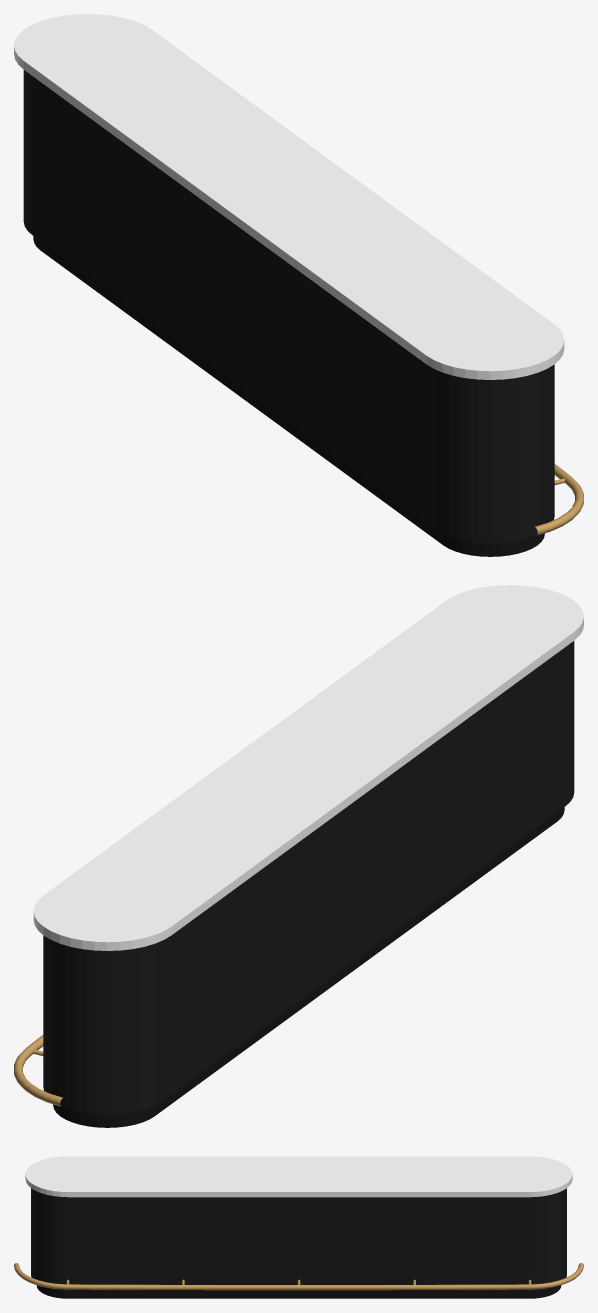
Rendered from bar_counter.glb.
3 renders of one model, top to bottom at view 1: azimuth 30°, elevation 25°; view 2: azimuth 150°, elevation 25°; view 3: azimuth 270°, elevation 25°, orthographic. The views are drawn at different scales.
Parts seen in each view (by area): view 1: Mesh_Body, Mesh_Top, Mesh_Plinth, Mesh_FootRail; view 2: Mesh_Body, Mesh_Top, Mesh_Plinth, Mesh_FootRail; view 3: Mesh_Body, Mesh_Top, Mesh_Plinth, Mesh_FootRail.
Boxes of the visible parts, x1=… form: Mesh_Body: x1=23, y1=70, x2=554, y2=543; Mesh_Top: x1=14, y1=14, x2=564, y2=379; Mesh_Plinth: x1=33, y1=236, x2=544, y2=556; Mesh_FootRail: x1=534, y1=464, x2=583, y2=535; Mesh_Body: x1=43, y1=641, x2=574, y2=1114; Mesh_Top: x1=33, y1=585, x2=583, y2=950; Mesh_Plinth: x1=53, y1=807, x2=564, y2=1127; Mesh_FootRail: x1=14, y1=1035, x2=63, y2=1106; Mesh_Body: x1=31, y1=1188, x2=566, y2=1290; Mesh_Top: x1=25, y1=1156, x2=572, y2=1197; Mesh_Plinth: x1=36, y1=1285, x2=561, y2=1298; Mesh_FootRail: x1=14, y1=1263, x2=583, y2=1290.
Bounding box in the file's own units: 0.8759 × 1.1 × 5.11.
